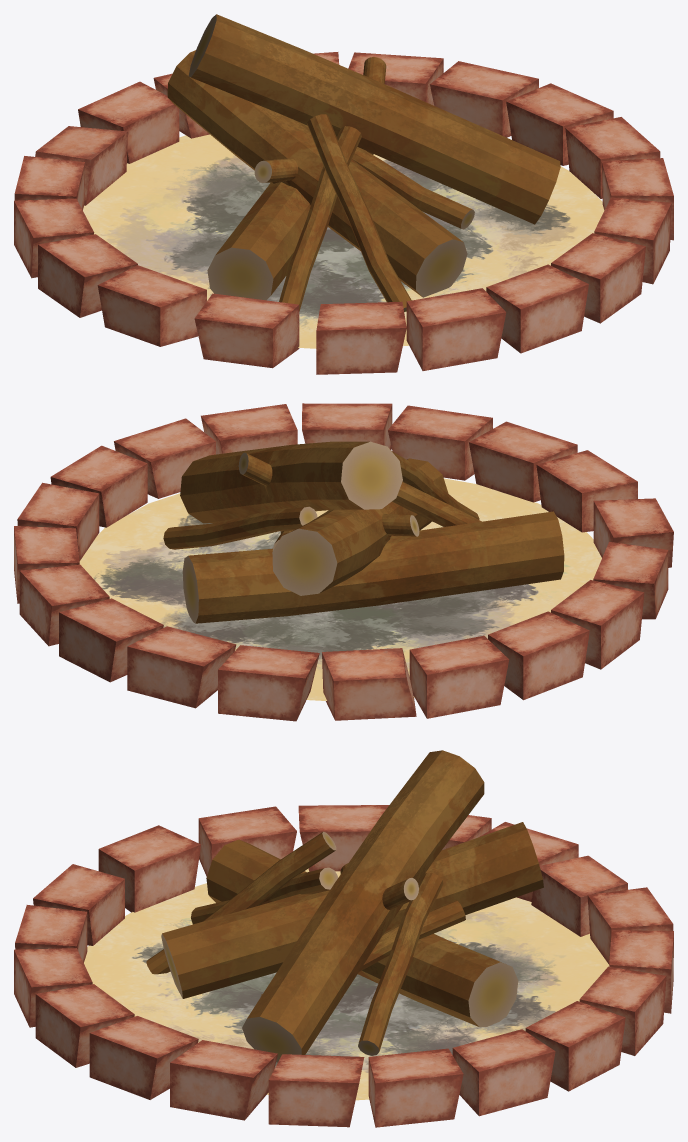
Rendered from campfirebrick.fbx.
3 renders of one model, top to bottom at view 1: azimuth 30°, elevation 25°; view 2: azimuth 150°, elevation 25°; view 3: azimuth 270°, elevation 25°, orthographic.
Parts seen in each view (by area): view 1: brick_ring_01; view 2: brick_ring_01; view 3: brick_ring_01.
Boxes of the visible parts, x1=… form: brick_ring_01: x1=14, y1=14, x2=673, y2=374; brick_ring_01: x1=14, y1=403, x2=673, y2=721; brick_ring_01: x1=14, y1=750, x2=673, y2=1127.
Bounding box in the file's own units: 7.78 × 2.68 × 7.8.
